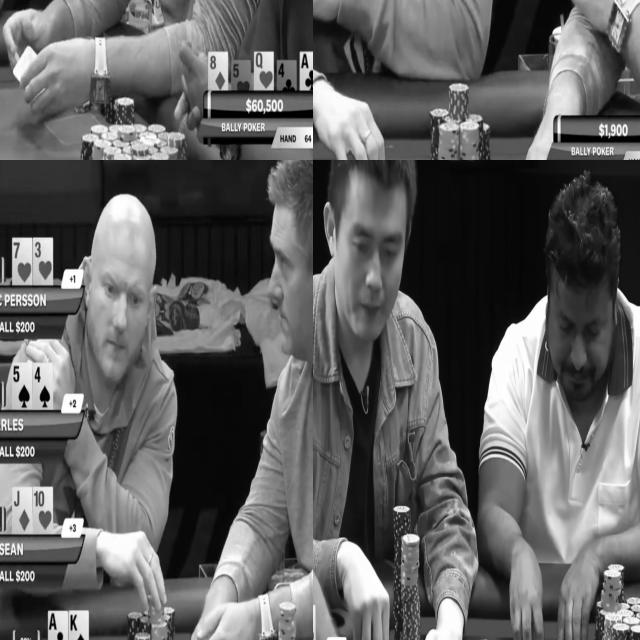10H: (34, 488, 52, 534)
3H: (34, 238, 52, 285)
4C: (278, 61, 296, 91)
4S: (33, 363, 52, 410)
5H: (232, 60, 250, 90)
5S: (13, 363, 32, 409)
7H: (13, 238, 32, 284)
8D: (208, 52, 228, 90)
AC: (48, 611, 67, 640), (300, 52, 313, 90)
JD: (13, 488, 32, 533)
KS: (69, 610, 88, 640)
QH: (255, 52, 273, 90)
